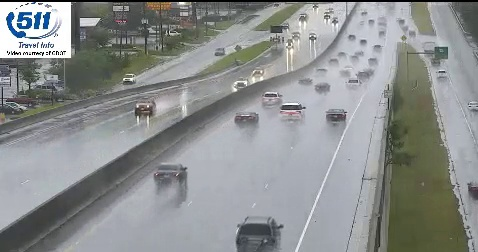car: (236, 216, 280, 251), (154, 163, 187, 185), (279, 103, 304, 122), (234, 112, 258, 126), (326, 108, 346, 124), (262, 92, 282, 107)
